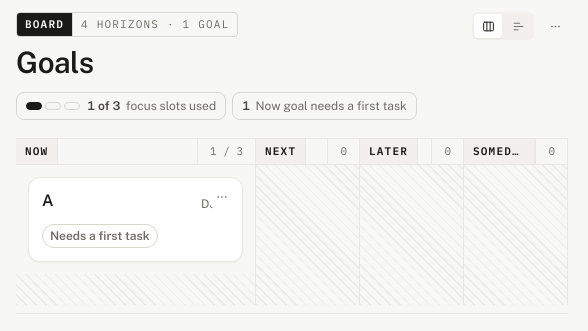
Test: Goals header › puts Import goal and Manage lives in the overflow
The width and height of the screenshot is (588, 331).
Check: the text "Import goal" is not shown
What coordinates should you click on to do the following:
click the button named "Goals actions"
I would click on:
 (555, 26)
Its box is [542,13,568,39].
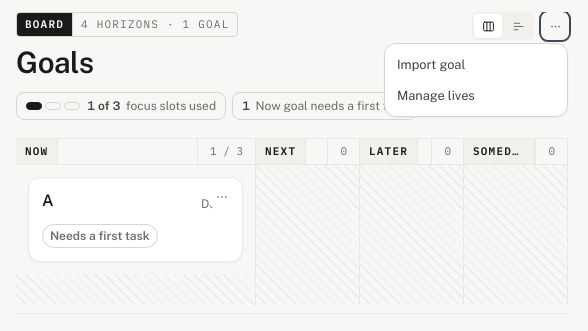
Check: the menu item "Import goal" is shown, box [385,49,567,80]
Check: the menu item "Manage lives" is shown, box [385,80,567,111]
